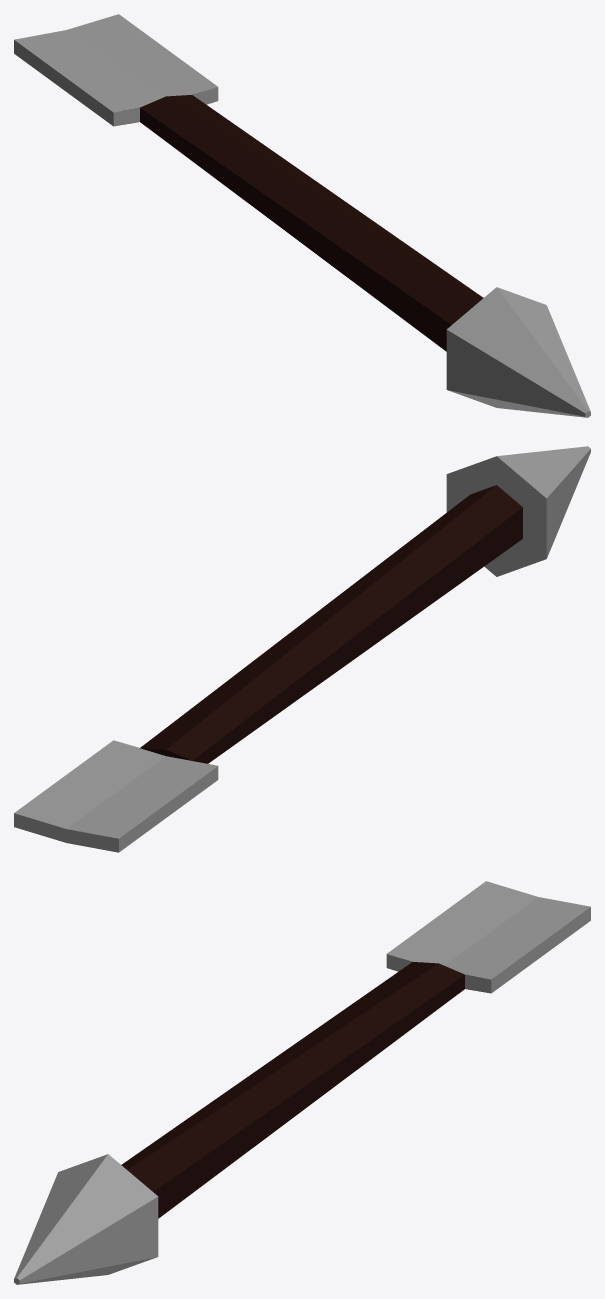
File: Flecha.fbx
The picture shows the model from 3 angles, top to bottom: view 1: azimuth 30°, elevation 25°; view 2: azimuth 150°, elevation 25°; view 3: azimuth 330°, elevation 25°; orthographic projection.
Parts seen in each view (by area): view 1: Cylinder; view 2: Cylinder; view 3: Cylinder.
Part boxes in pixels (x1,y1,x2,y2): Cylinder: (14, 14, 590, 417); Cylinder: (14, 446, 590, 852); Cylinder: (14, 881, 590, 1284).
Bounding box in the file's own units: 12.11 × 13.35 × 104.
